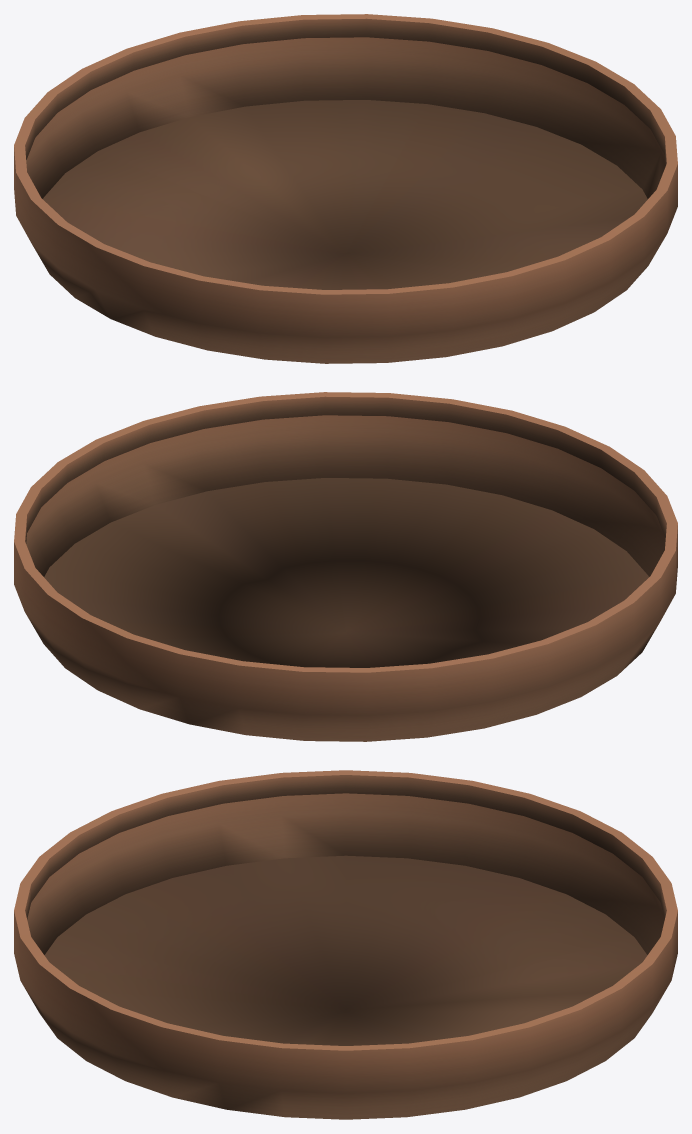
File: LobbyWalls.glb
3 renders of one model, top to bottom at view 1: azimuth 30°, elevation 25°; view 2: azimuth 150°, elevation 25°; view 3: azimuth 270°, elevation 25°, orthographic.
Visible parts, largest first — view 1: LobbyWalls; view 2: LobbyWalls; view 3: LobbyWalls.
Part boxes in pixels (x1,y1,x2,y2): LobbyWalls: (14,14,677,363); LobbyWalls: (14,392,677,741); LobbyWalls: (14,770,677,1119).
Size of what is drawn, in the model's own units: 89.54 by 14.79 by 89.54.
Materials: 1 (1 with a texture image).
